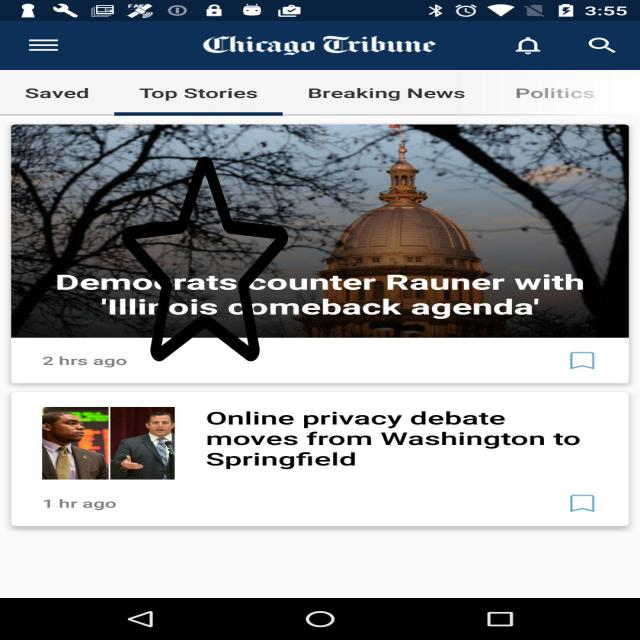forced continuity: (122, 152, 288, 366)
